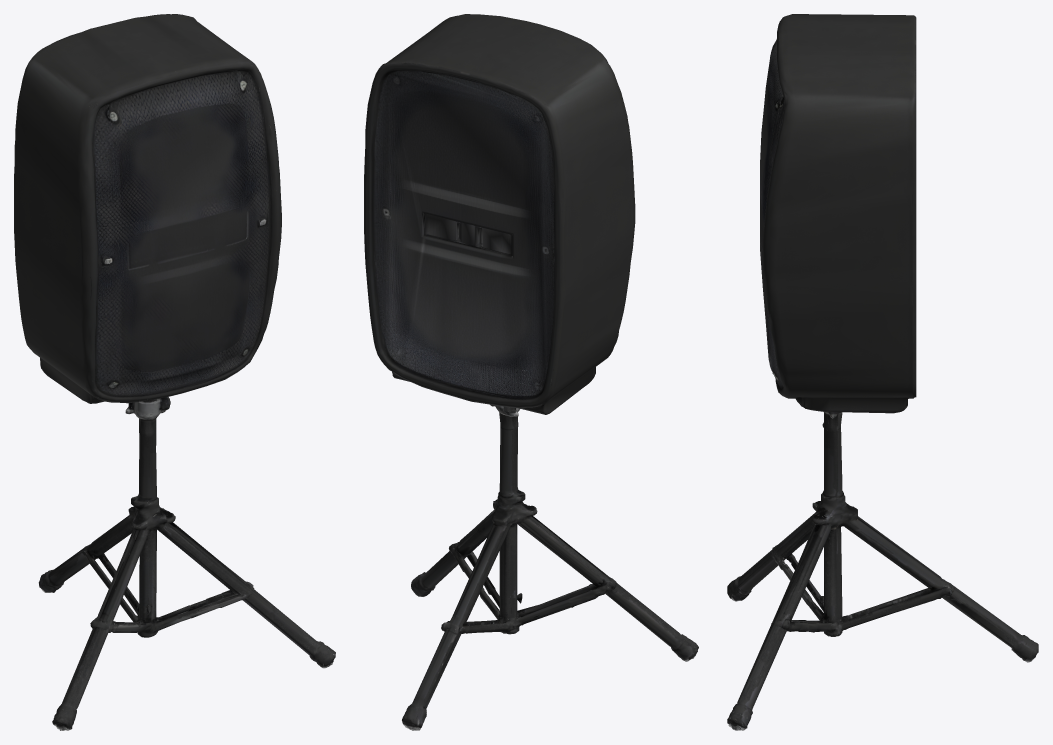
Rendered from speaker_on_stand_0125194843_texture.glb.
3 renders of one model, left to right at view 1: azimuth 30°, elevation 25°; view 2: azimuth 150°, elevation 25°; view 3: azimuth 270°, elevation 25°, orthographic. The views are drawn at different scales.
Parts seen in each view (by area): view 1: Mesh_0; view 2: Mesh_0; view 3: Mesh_0.
Boxes of the visible parts, bbox=[...] form: Mesh_0: bbox=[14, 14, 335, 730]; Mesh_0: bbox=[364, 14, 698, 730]; Mesh_0: bbox=[727, 14, 1038, 730].
Size of the model in its own units: 0.7291 by 1.52 by 0.6853.
1 material, 1 textured.
